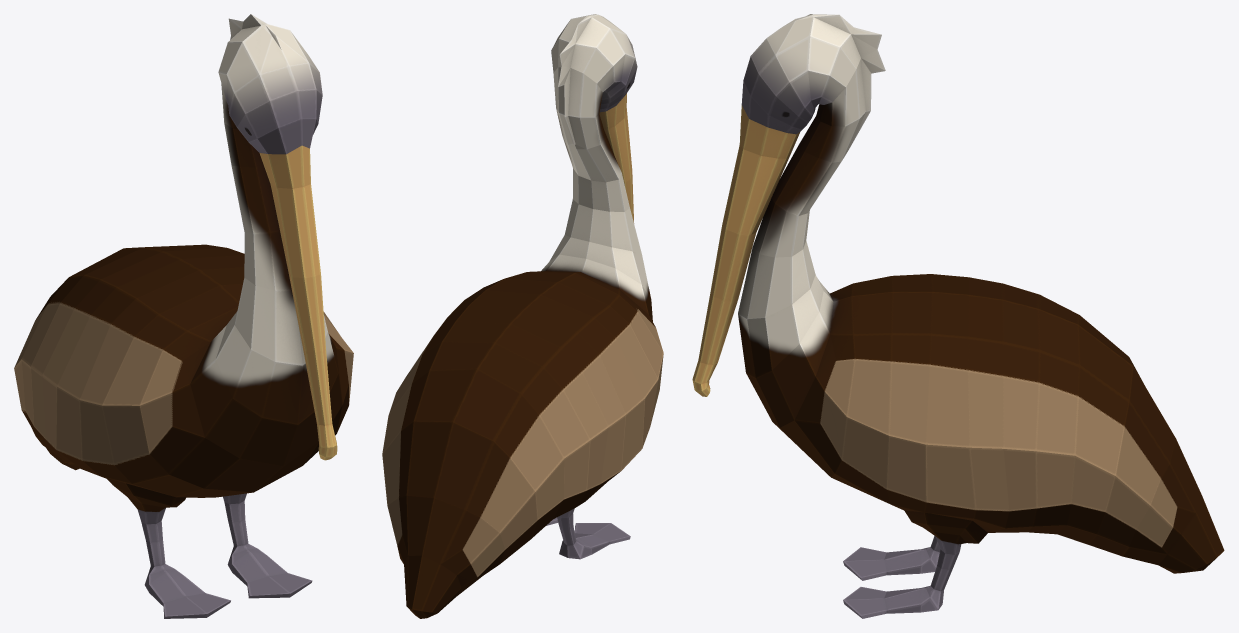
The model's file is 8c3beed0-e7f8-4e6c-8fd6-2ec32bef5144.glb.
3 renders of one model, left to right at view 1: azimuth 30°, elevation 25°; view 2: azimuth 150°, elevation 25°; view 3: azimuth 270°, elevation 25°, orthographic. The views are drawn at different scales.
Parts seen in each view (by area): view 1: BrownPelican_mesh; view 2: BrownPelican_mesh; view 3: BrownPelican_mesh.
Boxes of the visible parts, x1,y1,x2,y2 form: BrownPelican_mesh: (14, 14, 353, 618); BrownPelican_mesh: (382, 14, 663, 618); BrownPelican_mesh: (692, 14, 1224, 618).
Bounding box in the file's own units: 3.88 × 8.78 × 7.42.
Materials: 1 (1 with a texture image).
